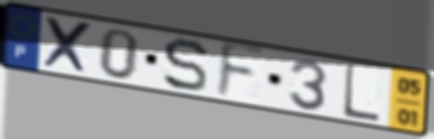0: (97, 27, 141, 81)
3: (288, 58, 330, 113)
F: (213, 40, 267, 102)
L: (340, 62, 382, 125)
S: (160, 36, 210, 94)
X: (41, 14, 96, 78)
